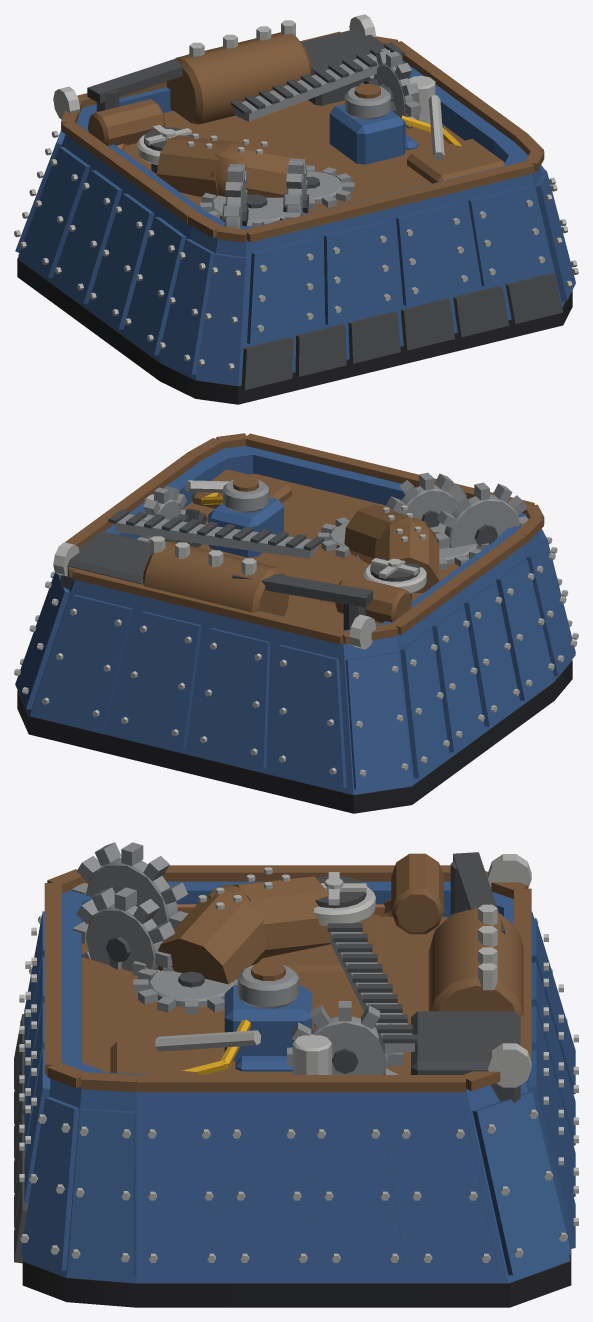
The model's file is assembling-machine-2.glb.
3 renders of one model, top to bottom at view 1: azimuth 30°, elevation 25°; view 2: azimuth 150°, elevation 25°; view 3: azimuth 270°, elevation 25°, orthographic. The views are drawn at different scales.
Visible parts, largest first — view 1: body, anim_spin_arms; view 2: body, anim_spin_arms; view 3: body.
Boxes of the visible parts, <box> form: body: <box>14,14,578,404</box>; anim_spin_arms: <box>200,193,309,227</box>; body: <box>14,433,578,813</box>; anim_spin_arms: <box>430,523,488,569</box>; body: <box>14,842,578,1307</box>.
Size of the model in its own units: 2.79 by 1.29 by 2.58.
